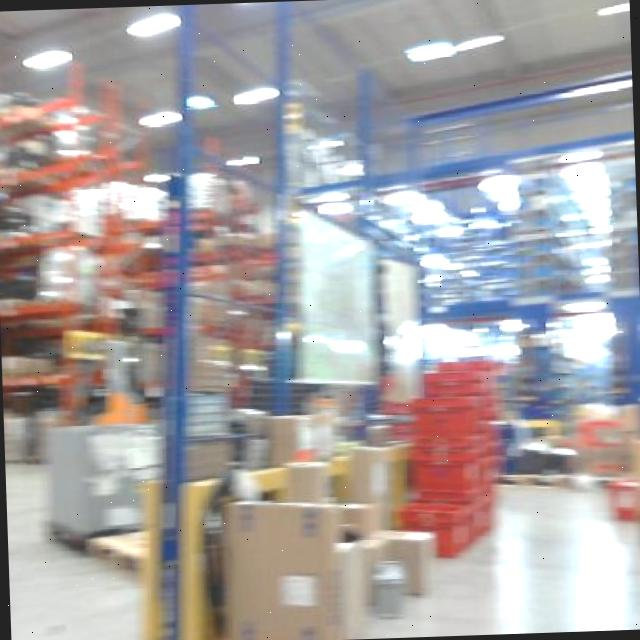pallet: (80, 521, 160, 589)
